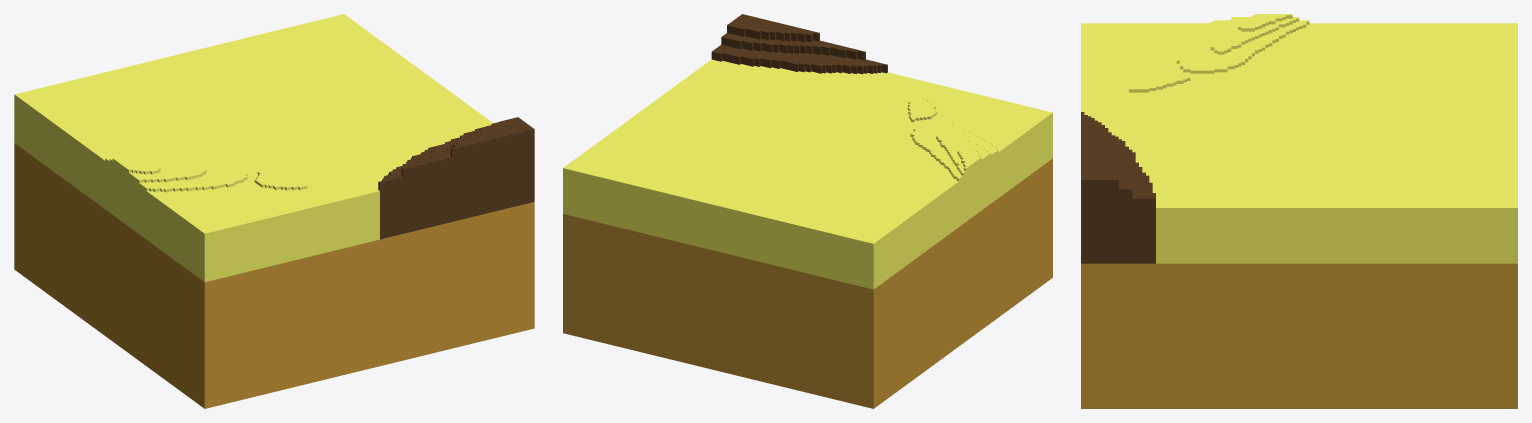
The picture shows the model from 3 angles, left to right: view 1: azimuth 30°, elevation 25°; view 2: azimuth 150°, elevation 25°; view 3: azimuth 270°, elevation 25°; orthographic projection. The views are drawn at different scales.
Parts seen in each view (by area): view 1: 3N; view 2: 3N; view 3: 3N.
Boxes of the visible parts, x1,y1,x2,y2 form: 3N: [14, 14, 534, 408]; 3N: [563, 14, 1052, 408]; 3N: [1081, 14, 1517, 408].
Bounding box in the file's own units: 12.8 × 7.4 × 12.8.
1 material, 1 textured.
